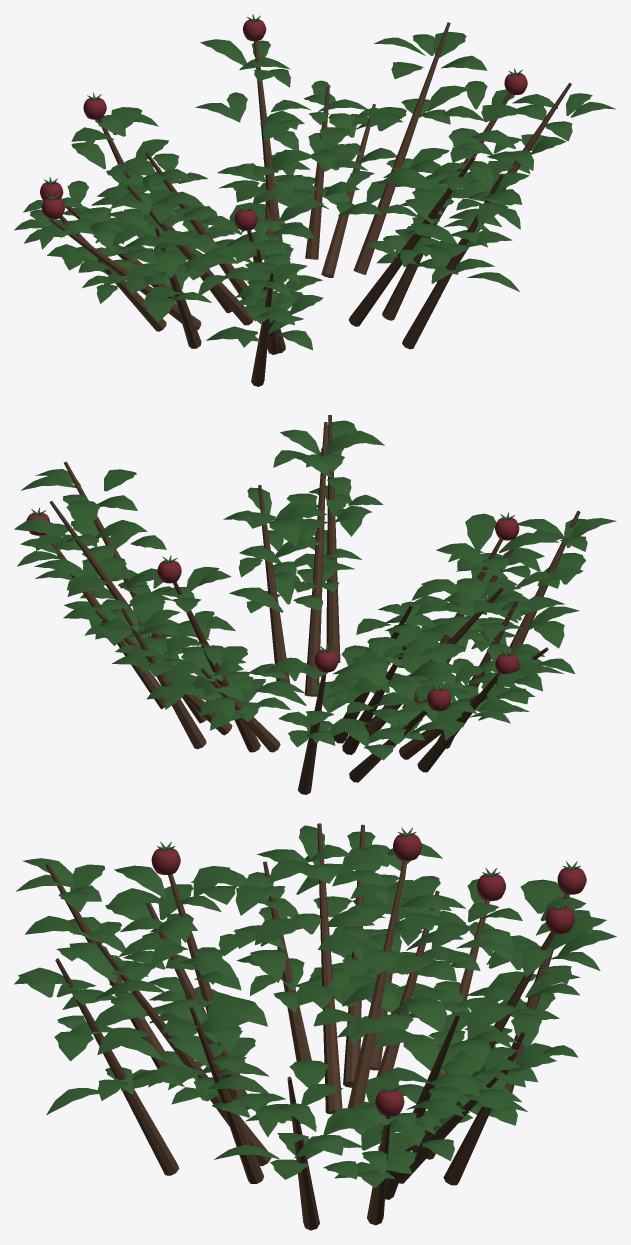
The model's file is detail_shrub.glb.
3 views of the same model, one above another, from view 1: azimuth 30°, elevation 25°; view 2: azimuth 150°, elevation 25°; view 3: azimuth 270°, elevation 25° (orthographic). The views are drawn at different scales.
Parts seen in each view (by area): view 1: IndividualShrubLeaves, Cone.007, Cone.005, Cone.018, Cone.011, Cone.020, Cone.014, Cone.003, Cone.009, Cone.010, Cone.001, Cone.013 (+3 smaller); view 2: IndividualShrubLeaves, Cone.005, Cone.018, Cone.009, Cone.011, Cone.020, Cone.004, Cone.007, Cone.016, Cone.010, Cone, Cone.002 (+6 smaller); view 3: IndividualShrubLeaves, Cone.003, Cone.018, Cone.015, Cone.009, Cone.005, Cone.006, Cone.011, Cone.013, Cone.007, Cone.001, Cone.010 (+14 smaller).
Part boxes in pixels (box(x1,y1,x2,y2)): IndividualShrubLeaves: box(14, 31, 616, 350); Cone.007: box(353, 22, 450, 274); Cone.005: box(349, 156, 475, 326); Cone.018: box(402, 173, 503, 349); Cone.011: box(305, 86, 329, 259); Cone.020: box(254, 41, 282, 241); Cone.014: box(321, 104, 375, 277); Cone.003: box(126, 185, 253, 325); Cone.009: box(382, 162, 464, 320); Cone.010: box(251, 271, 273, 386); Cone.001: box(49, 218, 201, 330); Cone.013: box(155, 227, 201, 348); IndividualShrubLeaves: box(14, 420, 616, 760); Cone.005: box(304, 422, 327, 696); Cone.018: box(326, 415, 340, 662); Cone.009: box(258, 485, 290, 683); Cone.011: box(121, 608, 206, 749); Cone.020: box(173, 582, 260, 752); Cone.004: box(298, 674, 325, 794); Cone.007: box(49, 501, 206, 723); Cone.016: box(417, 672, 499, 772); Cone.010: box(486, 510, 580, 699); Cone: box(44, 533, 165, 709); Cone.002: box(342, 644, 407, 754); IndividualShrubLeaves: box(14, 825, 616, 1187); Cone.003: box(317, 823, 342, 1114); Cone.018: box(55, 958, 179, 1175); Cone.015: box(347, 861, 406, 1107); Cone.009: box(189, 1006, 264, 1183); Cone.005: box(96, 941, 271, 1166); Cone.006: box(287, 1076, 319, 1230); Cone.011: box(443, 1031, 525, 1185); Cone.013: box(263, 861, 311, 1061); Cone.007: box(385, 1013, 460, 1199); Cone.001: box(343, 824, 364, 1087); Cone.010: box(45, 863, 173, 1082).
Size of the model in its own units: 2.37 by 0.8889 by 1.78.
